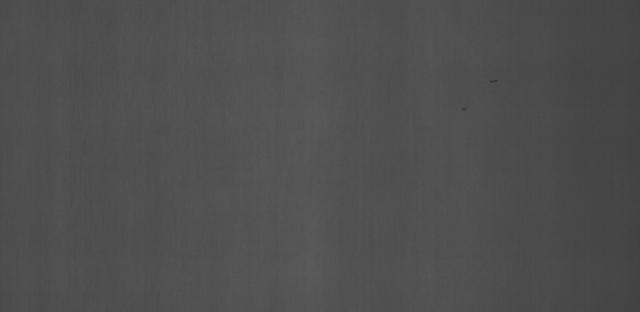inclusion: (454, 91, 478, 124), (477, 72, 508, 92)
